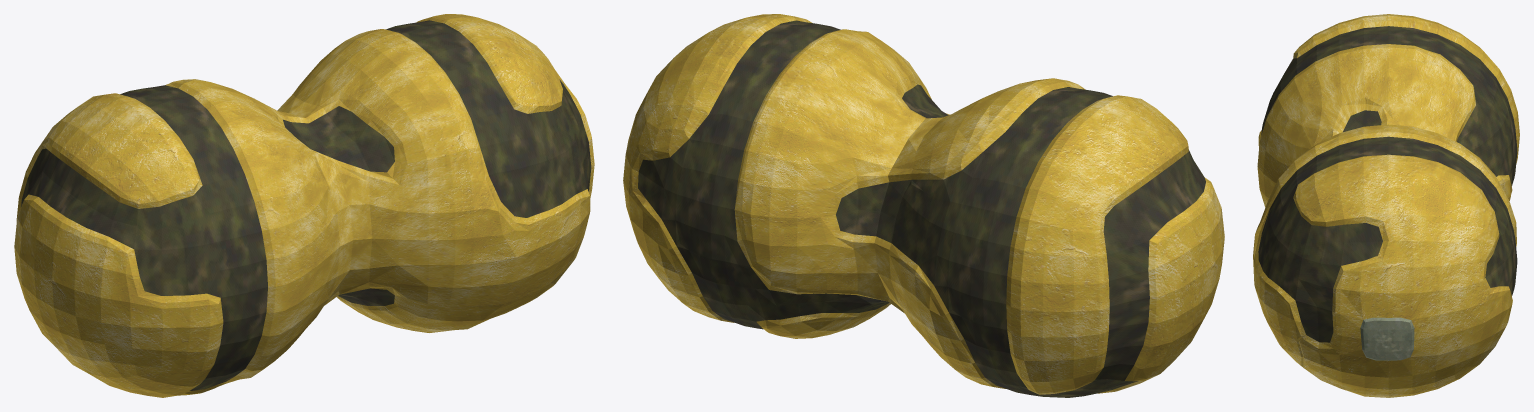
Rendered from PeanutMudPlanet_bake.dae.
3 renders of one model, left to right at view 1: azimuth 30°, elevation 25°; view 2: azimuth 150°, elevation 25°; view 3: azimuth 270°, elevation 25°, orthographic. The views are drawn at different scales.
Visible parts, largest first — view 1: m0, m1; view 2: m0, m1; view 3: m0, m1, m2.
Part boxes in pixels (x1,y1,x2,y2): m0: (14, 14, 594, 397); m1: (21, 20, 591, 390); m0: (623, 14, 1224, 394); m1: (638, 20, 1205, 397); m0: (1253, 14, 1519, 397); m1: (1258, 26, 1517, 342); m2: (1360, 317, 1414, 360).
Size of the model in its own units: 2937 by 1469 by 1472.
Materials: 4 (4 with a texture image).
